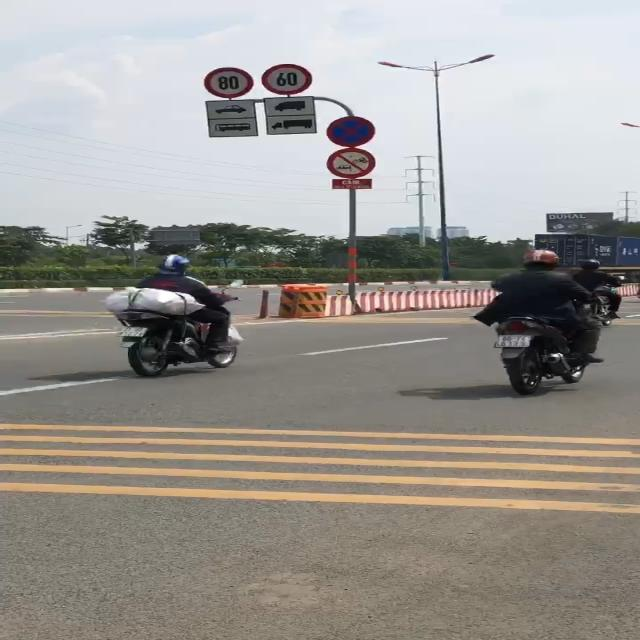Bien bao cam dung xe va do xe: (325, 114, 379, 149)
Bien bao toc do toi da cho phep: (257, 62, 317, 97), (202, 65, 257, 100)
